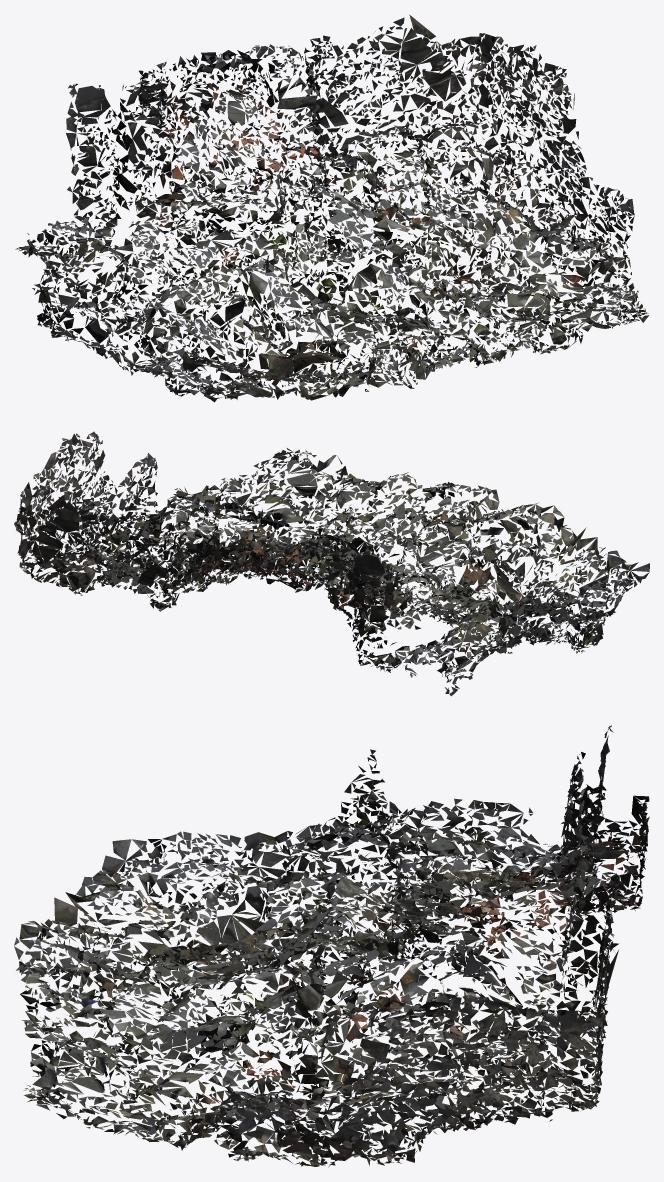
Rendered from quarry_fall.glb.
3 renders of one model, top to bottom at view 1: azimuth 30°, elevation 25°; view 2: azimuth 150°, elevation 25°; view 3: azimuth 270°, elevation 25°, orthographic. The views are drawn at different scales.
Parts seen in each view (by area): view 1: Tumbled masonry; view 2: Tumbled masonry; view 3: Tumbled masonry.
Part boxes in pixels (x1,y1,x2,y2): Tumbled masonry: [15, 14, 648, 402]; Tumbled masonry: [14, 431, 649, 696]; Tumbled masonry: [14, 725, 649, 1167].
Bounding box in the file's own units: 3.7 × 1.25 × 3.05.
Materials: 1 (1 with a texture image).
